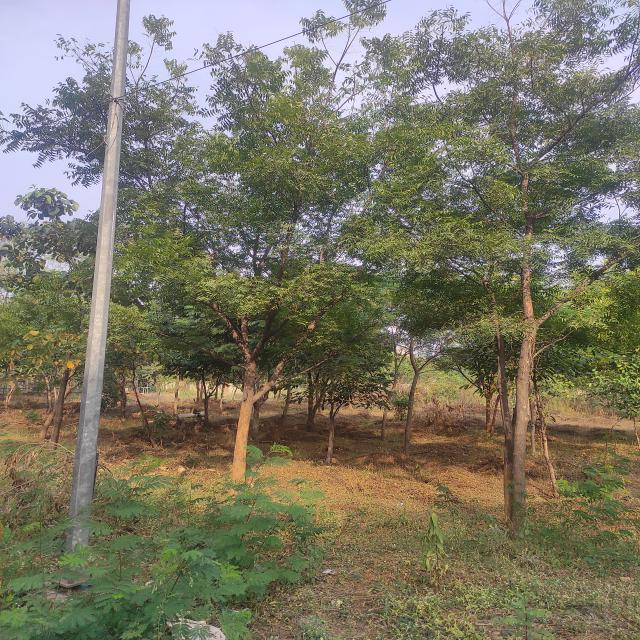Neem Tree: (411, 10, 623, 523), (131, 33, 344, 497)
